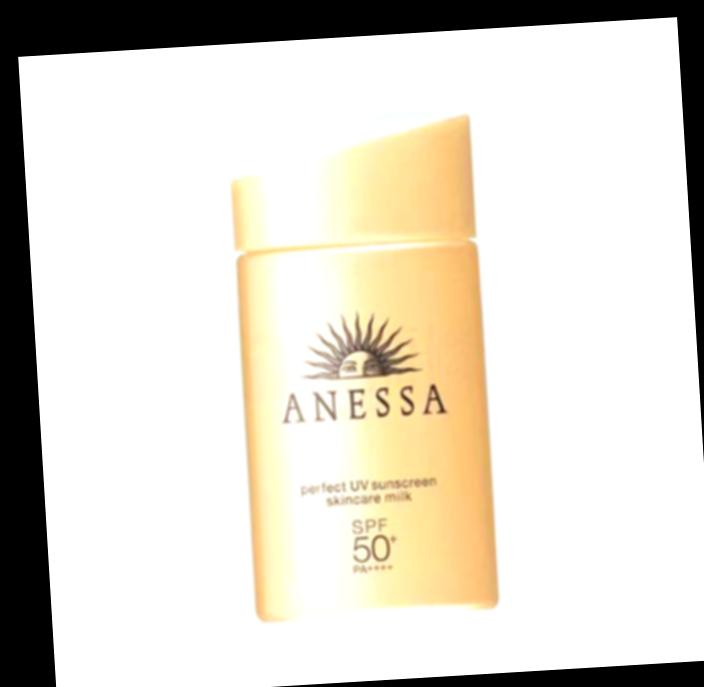cosmetic: (228, 108, 501, 617)
